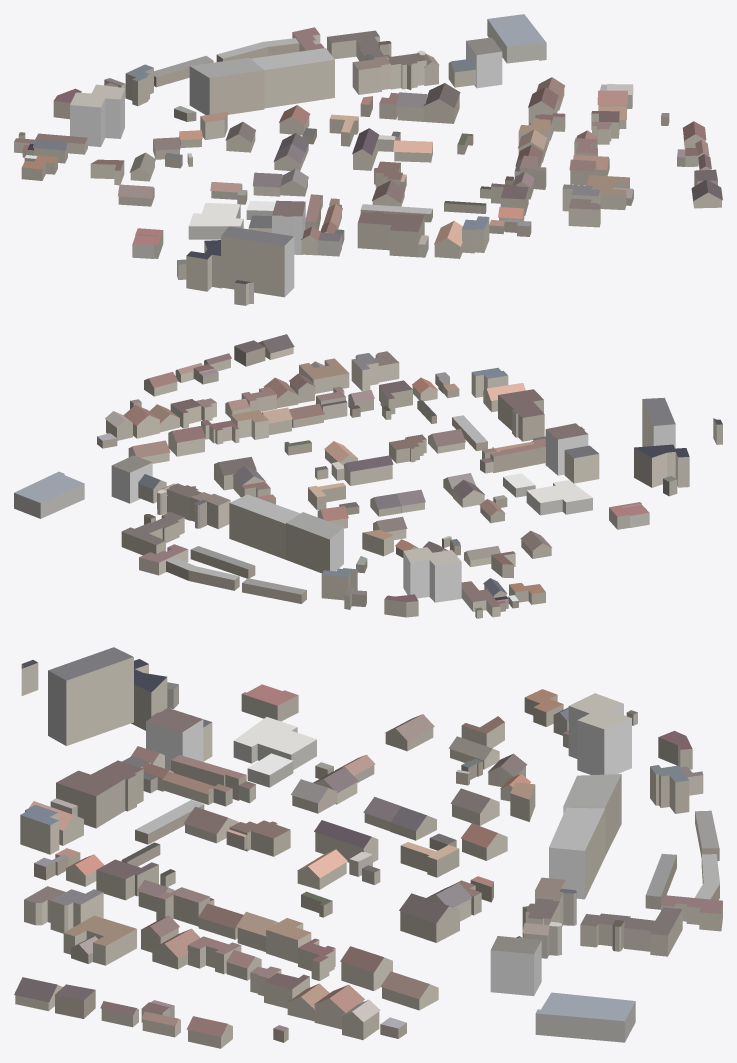
The picture shows the model from 3 angles, top to bottom: view 1: azimuth 30°, elevation 25°; view 2: azimuth 150°, elevation 25°; view 3: azimuth 270°, elevation 25°; orthographic projection. The views are drawn at different scales.
Visible parts, largest first — view 1: tuile; view 2: tuile; view 3: tuile.
Part boxes in pixels (box(x1,y1,x2,y2)): tuile: box(14, 14, 722, 305); tuile: box(14, 334, 722, 618); tuile: box(14, 647, 722, 1048).
Bounding box in the file's own units: 257 × 29.04 × 224.
